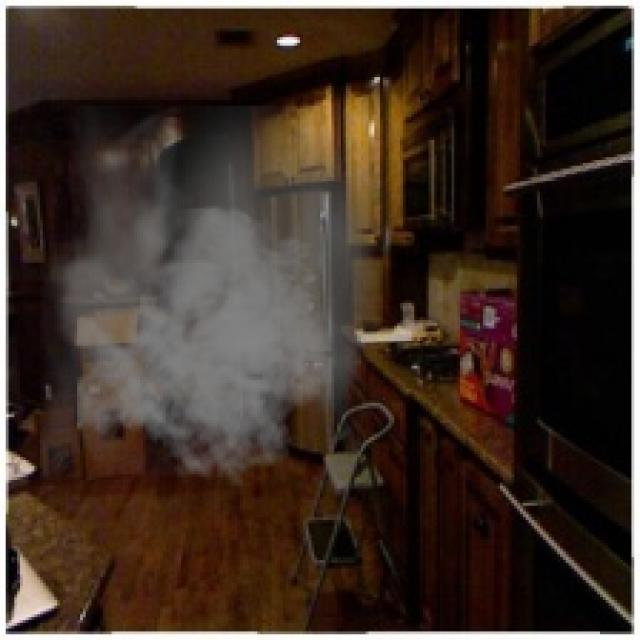smoke: (40, 106, 383, 488)
